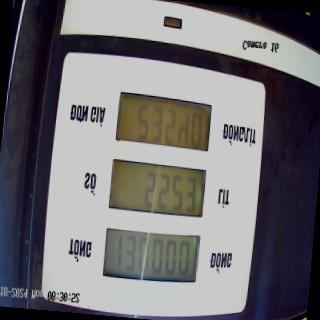screen: (100, 85, 215, 292)
